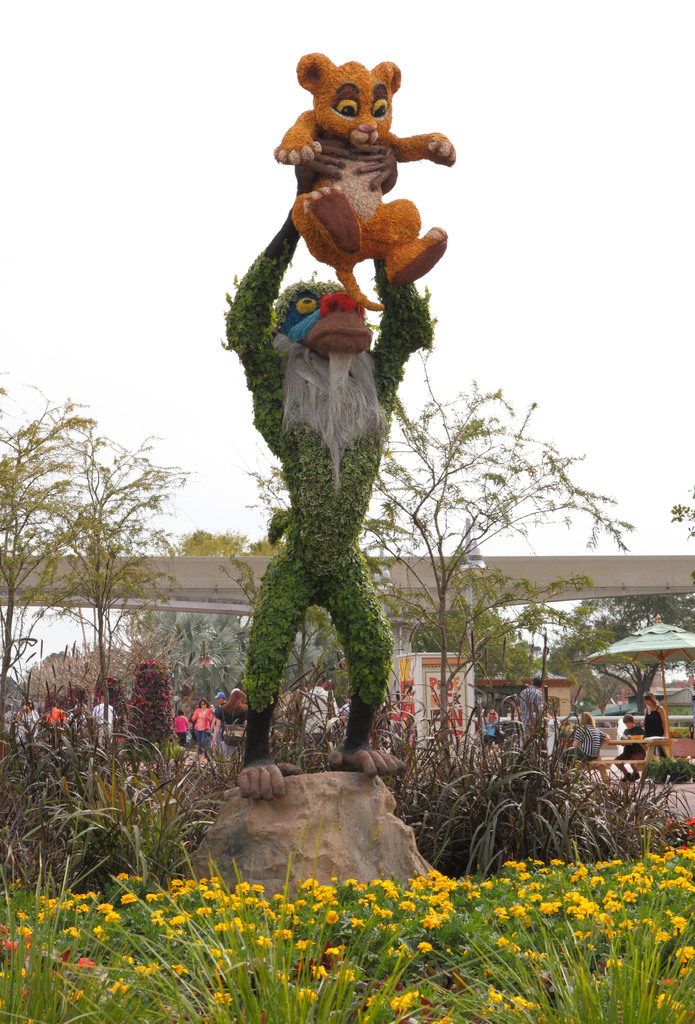Tree: (261, 359, 640, 707), (0, 394, 185, 757)
